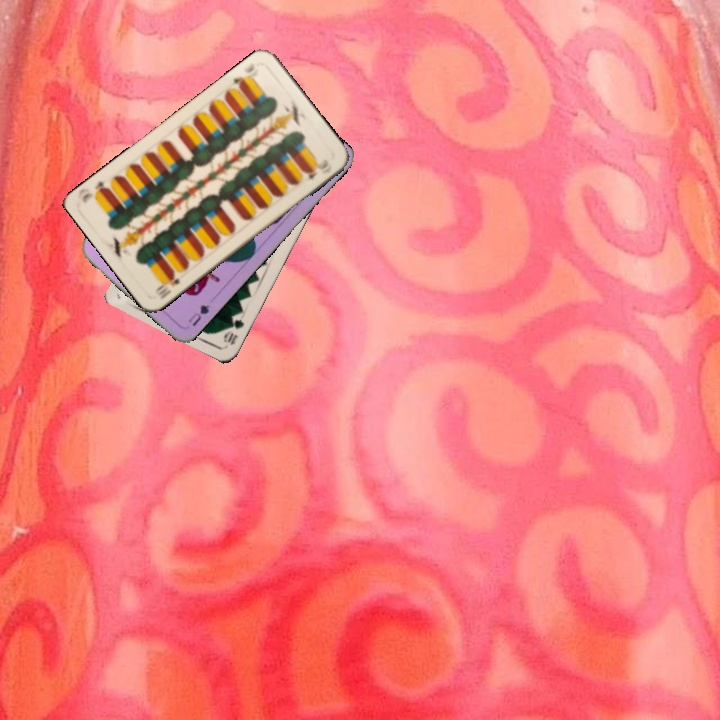E10: (151, 270, 183, 301), (228, 59, 257, 91)
G10: (219, 315, 247, 348)
GU: (184, 301, 213, 329)
